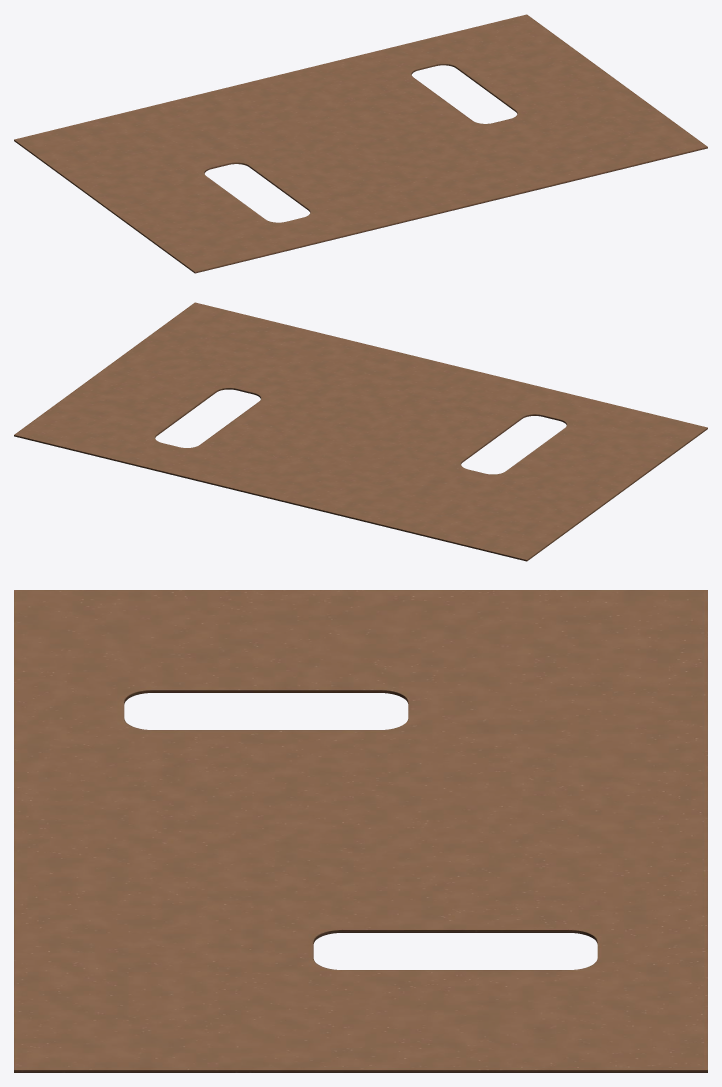
3 views of the same model, one above another, from view 1: azimuth 30°, elevation 25°; view 2: azimuth 150°, elevation 25°; view 3: azimuth 270°, elevation 25° (orthographic). The views are drawn at different scales.
Visible parts, largest first — view 1: HORNEADO_suelo; view 2: HORNEADO_suelo; view 3: HORNEADO_suelo.
Boxes of the visible parts, x1,y1,x2,y2 form: HORNEADO_suelo: (14, 14, 707, 273); HORNEADO_suelo: (14, 302, 707, 561); HORNEADO_suelo: (14, 590, 707, 1072).
Size of what is drawn, in the model's own units: 36 by 0.1 by 22.
1 material, 1 textured.
